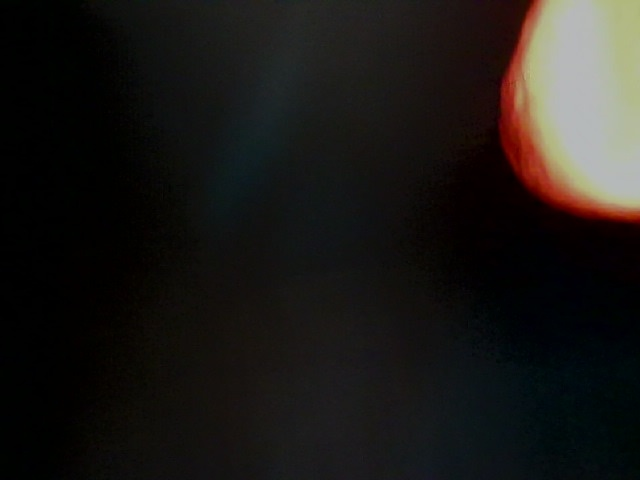CYLJ: (249, 364, 356, 470)
